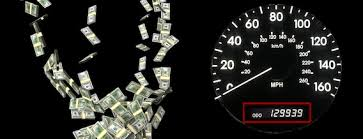Digital_Meter: (239, 102, 313, 125)
